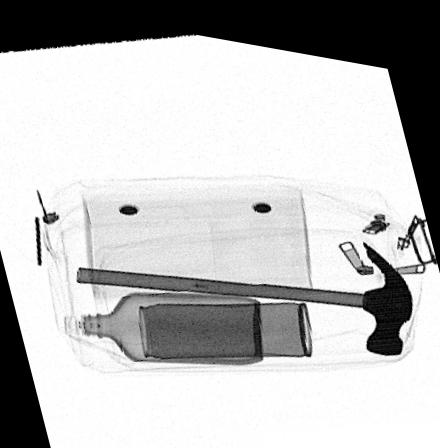Hammer: (75, 227, 412, 342)
